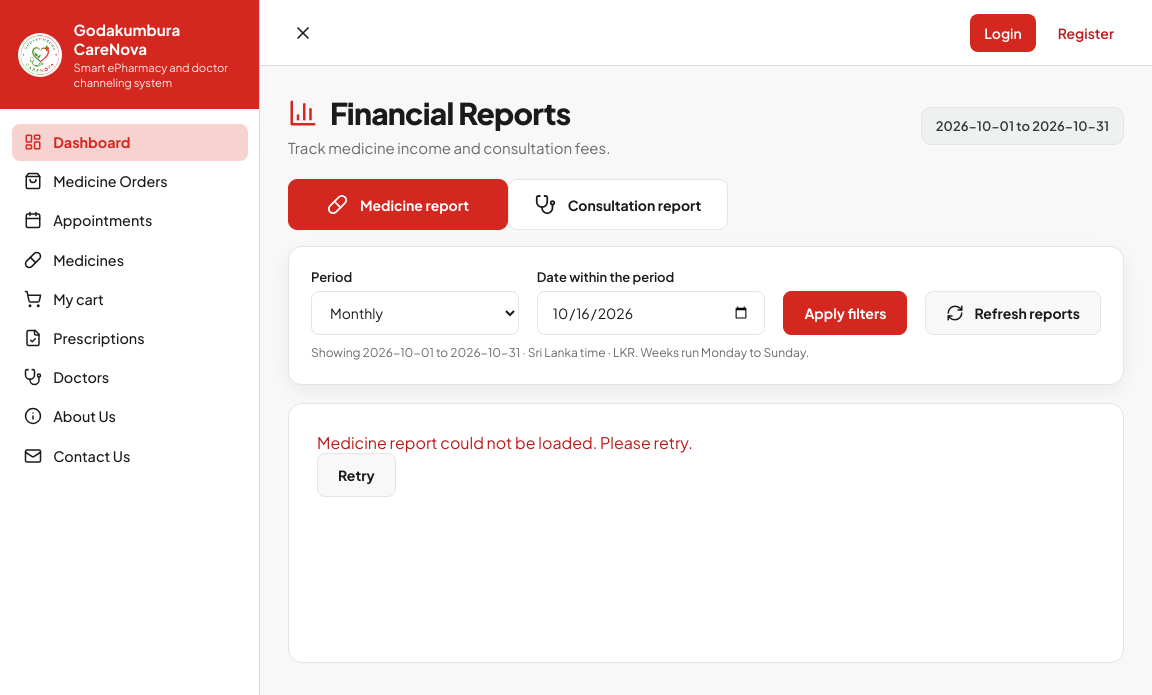
Test: keeps a healthy module visible when the other fails and allows retry
Expected: the message shows "Medicine report could not be loaded", [317,432,693,453]
Click the tab "Consultation report" at (618, 205), box [508,179,728,230]
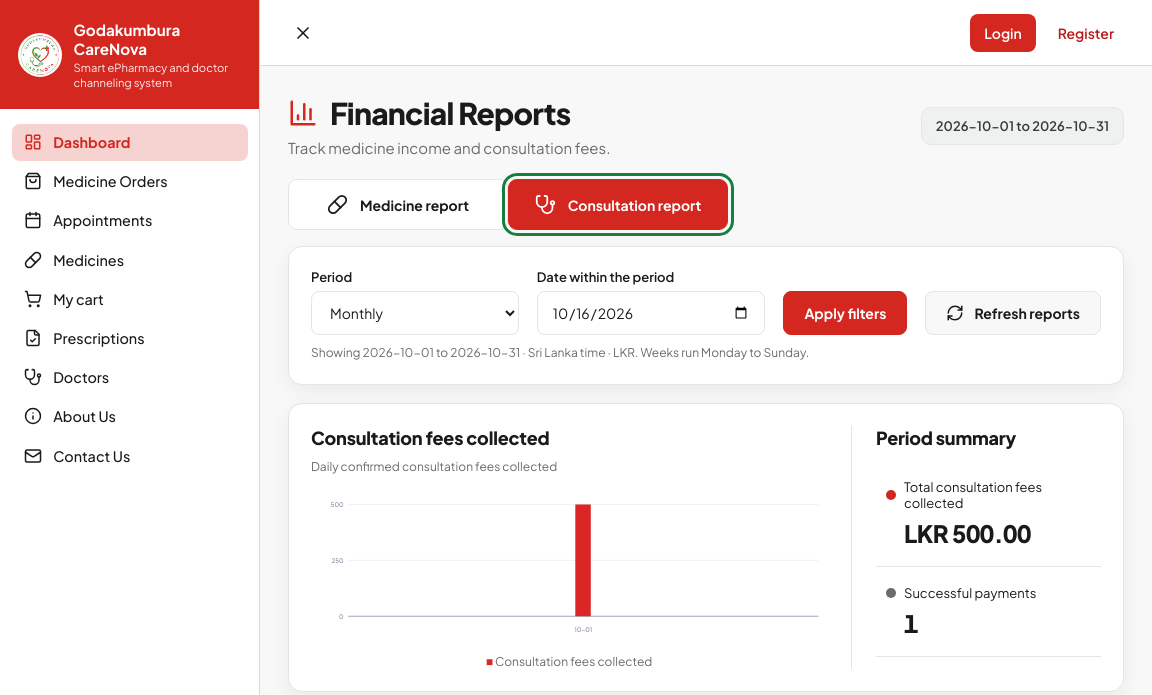
Expected: the picture named "Total consultation fees collected chart" is shown, [311,493,827,642]
Click the tab "Medicine report" at (398, 205), box [288,179,508,230]
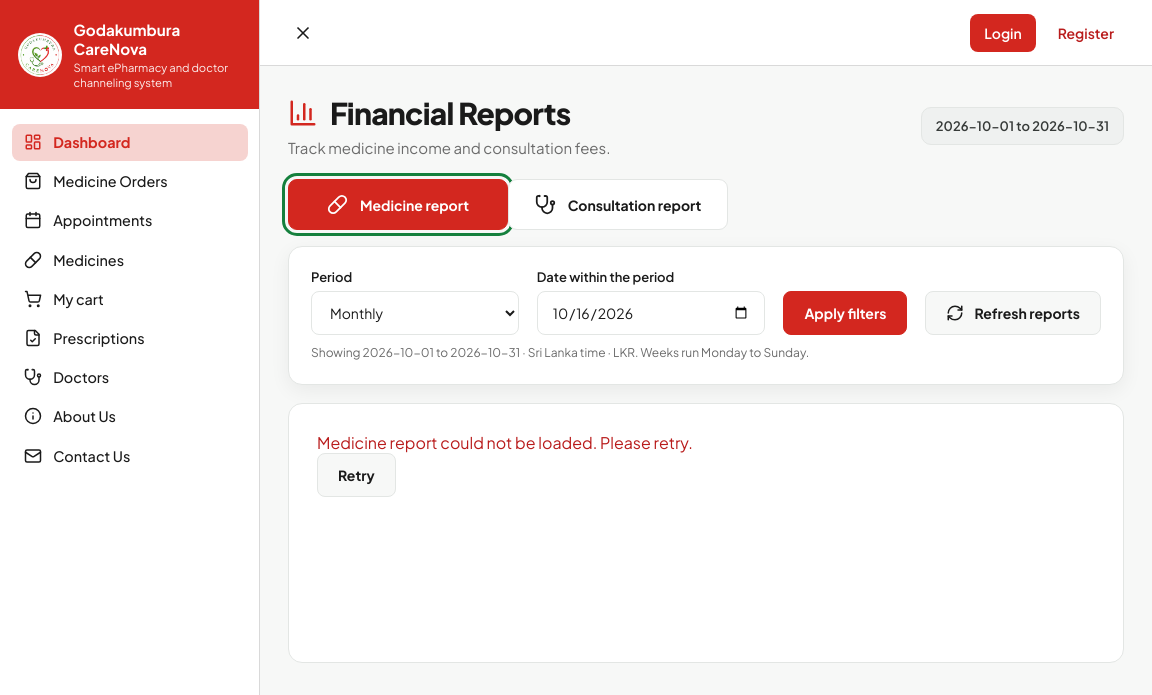
Click the button with aria-label "Retry medicine report" at (356, 475), box [317,453,396,497]
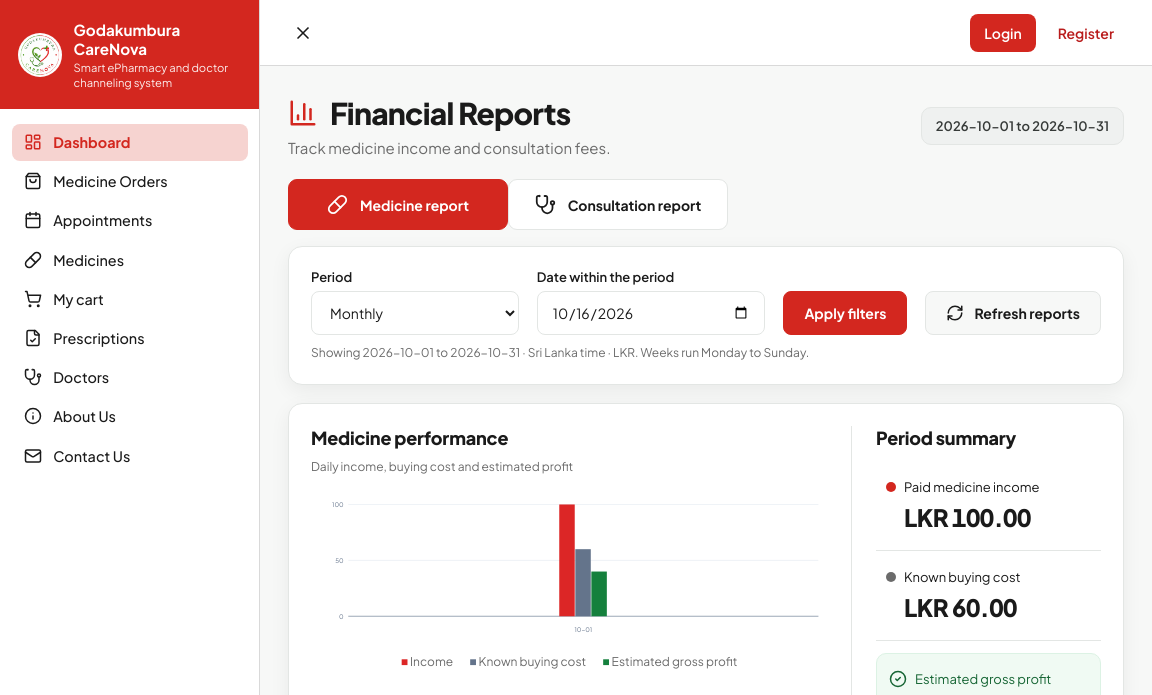
Expected: the picture named "Medicine income, buying cost and estimated profit chart" is shown, [311,493,827,642]
